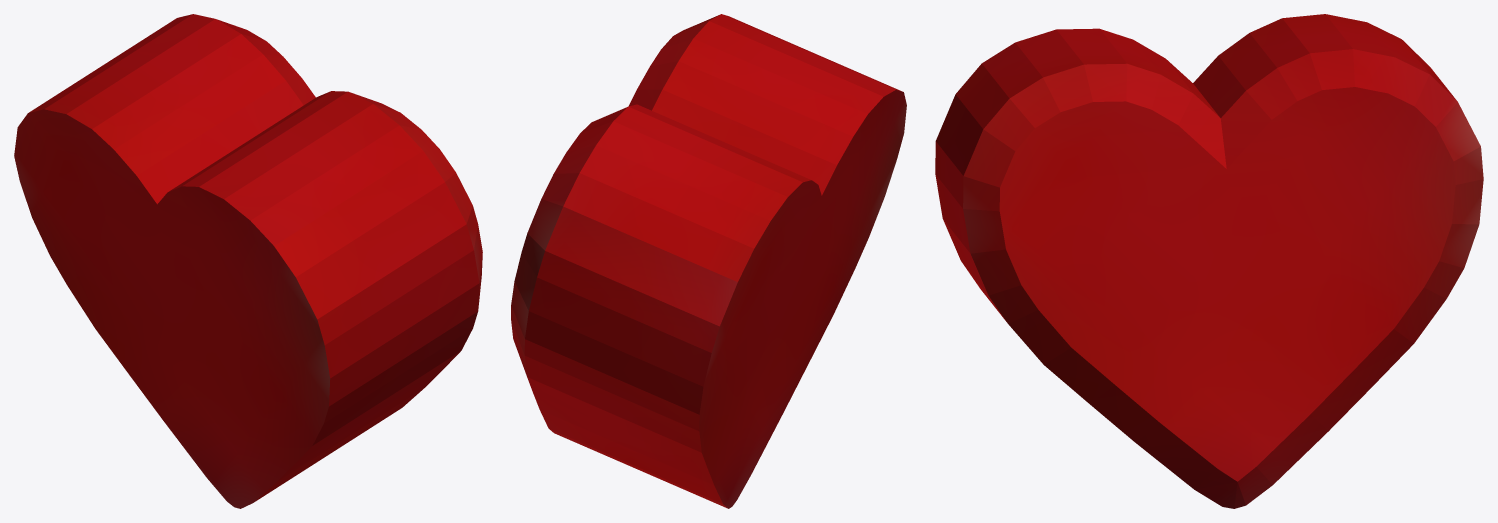
Rendered from CHEST HEART.fbx.
3 renders of one model, left to right at view 1: azimuth 30°, elevation 25°; view 2: azimuth 150°, elevation 25°; view 3: azimuth 270°, elevation 25°, orthographic. The views are drawn at different scales.
Visible parts, largest first — view 1: CHEST_HEART; view 2: CHEST_HEART; view 3: CHEST_HEART.
Boxes of the visible parts, left/top/right/bottom form: CHEST_HEART: left=14, top=14, right=482, bottom=508; CHEST_HEART: left=511, top=14, right=906, bottom=508; CHEST_HEART: left=935, top=14, right=1483, bottom=508.
Size of the model in its own units: 6.07 by 8.37 by 9.22.
